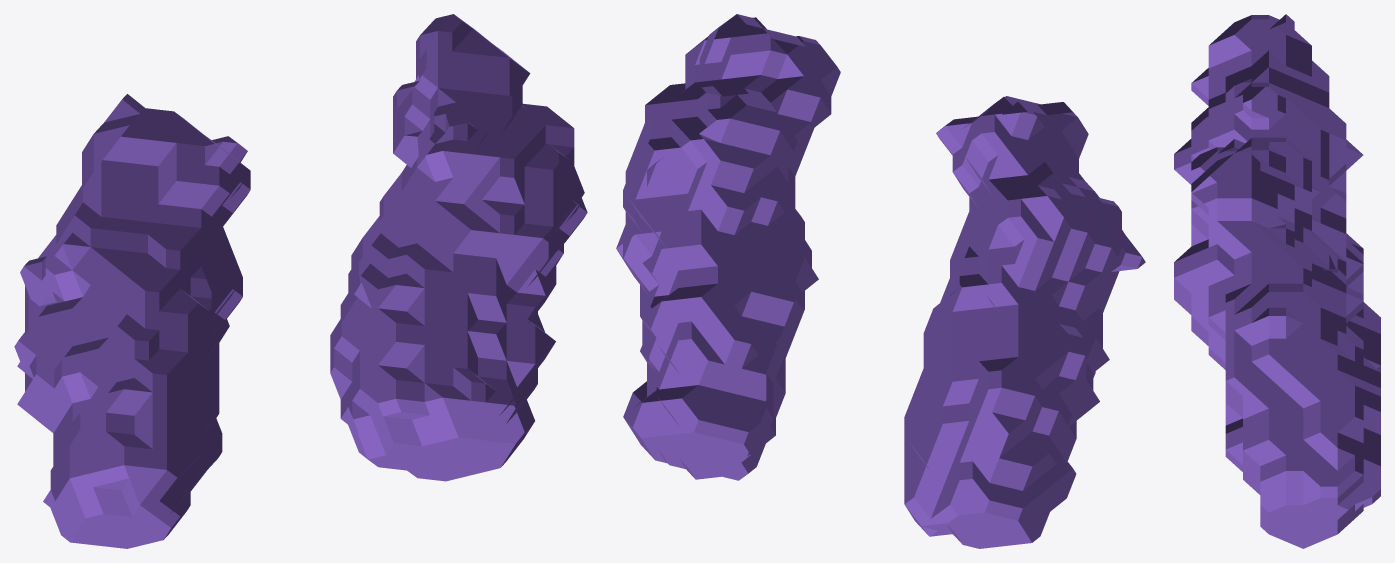
The model's file is region_0195_IXm__glossopharyngeal_nerve_motor_nucleus_.glb.
The picture shows the model from 3 angles, left to right: view 1: azimuth 30°, elevation 25°; view 2: azimuth 150°, elevation 25°; view 3: azimuth 270°, elevation 25°; orthographic projection. The views are drawn at different scales.
Visible parts, largest first — view 1: world; view 2: world; view 3: world.
Boxes of the visible parts, x1,y1,x2,y2 form: world: [14, 14, 587, 548]; world: [616, 14, 1145, 548]; world: [1174, 14, 1380, 548].
Bounding box in the file's own units: 0.24 × 0.192 × 0.096.
